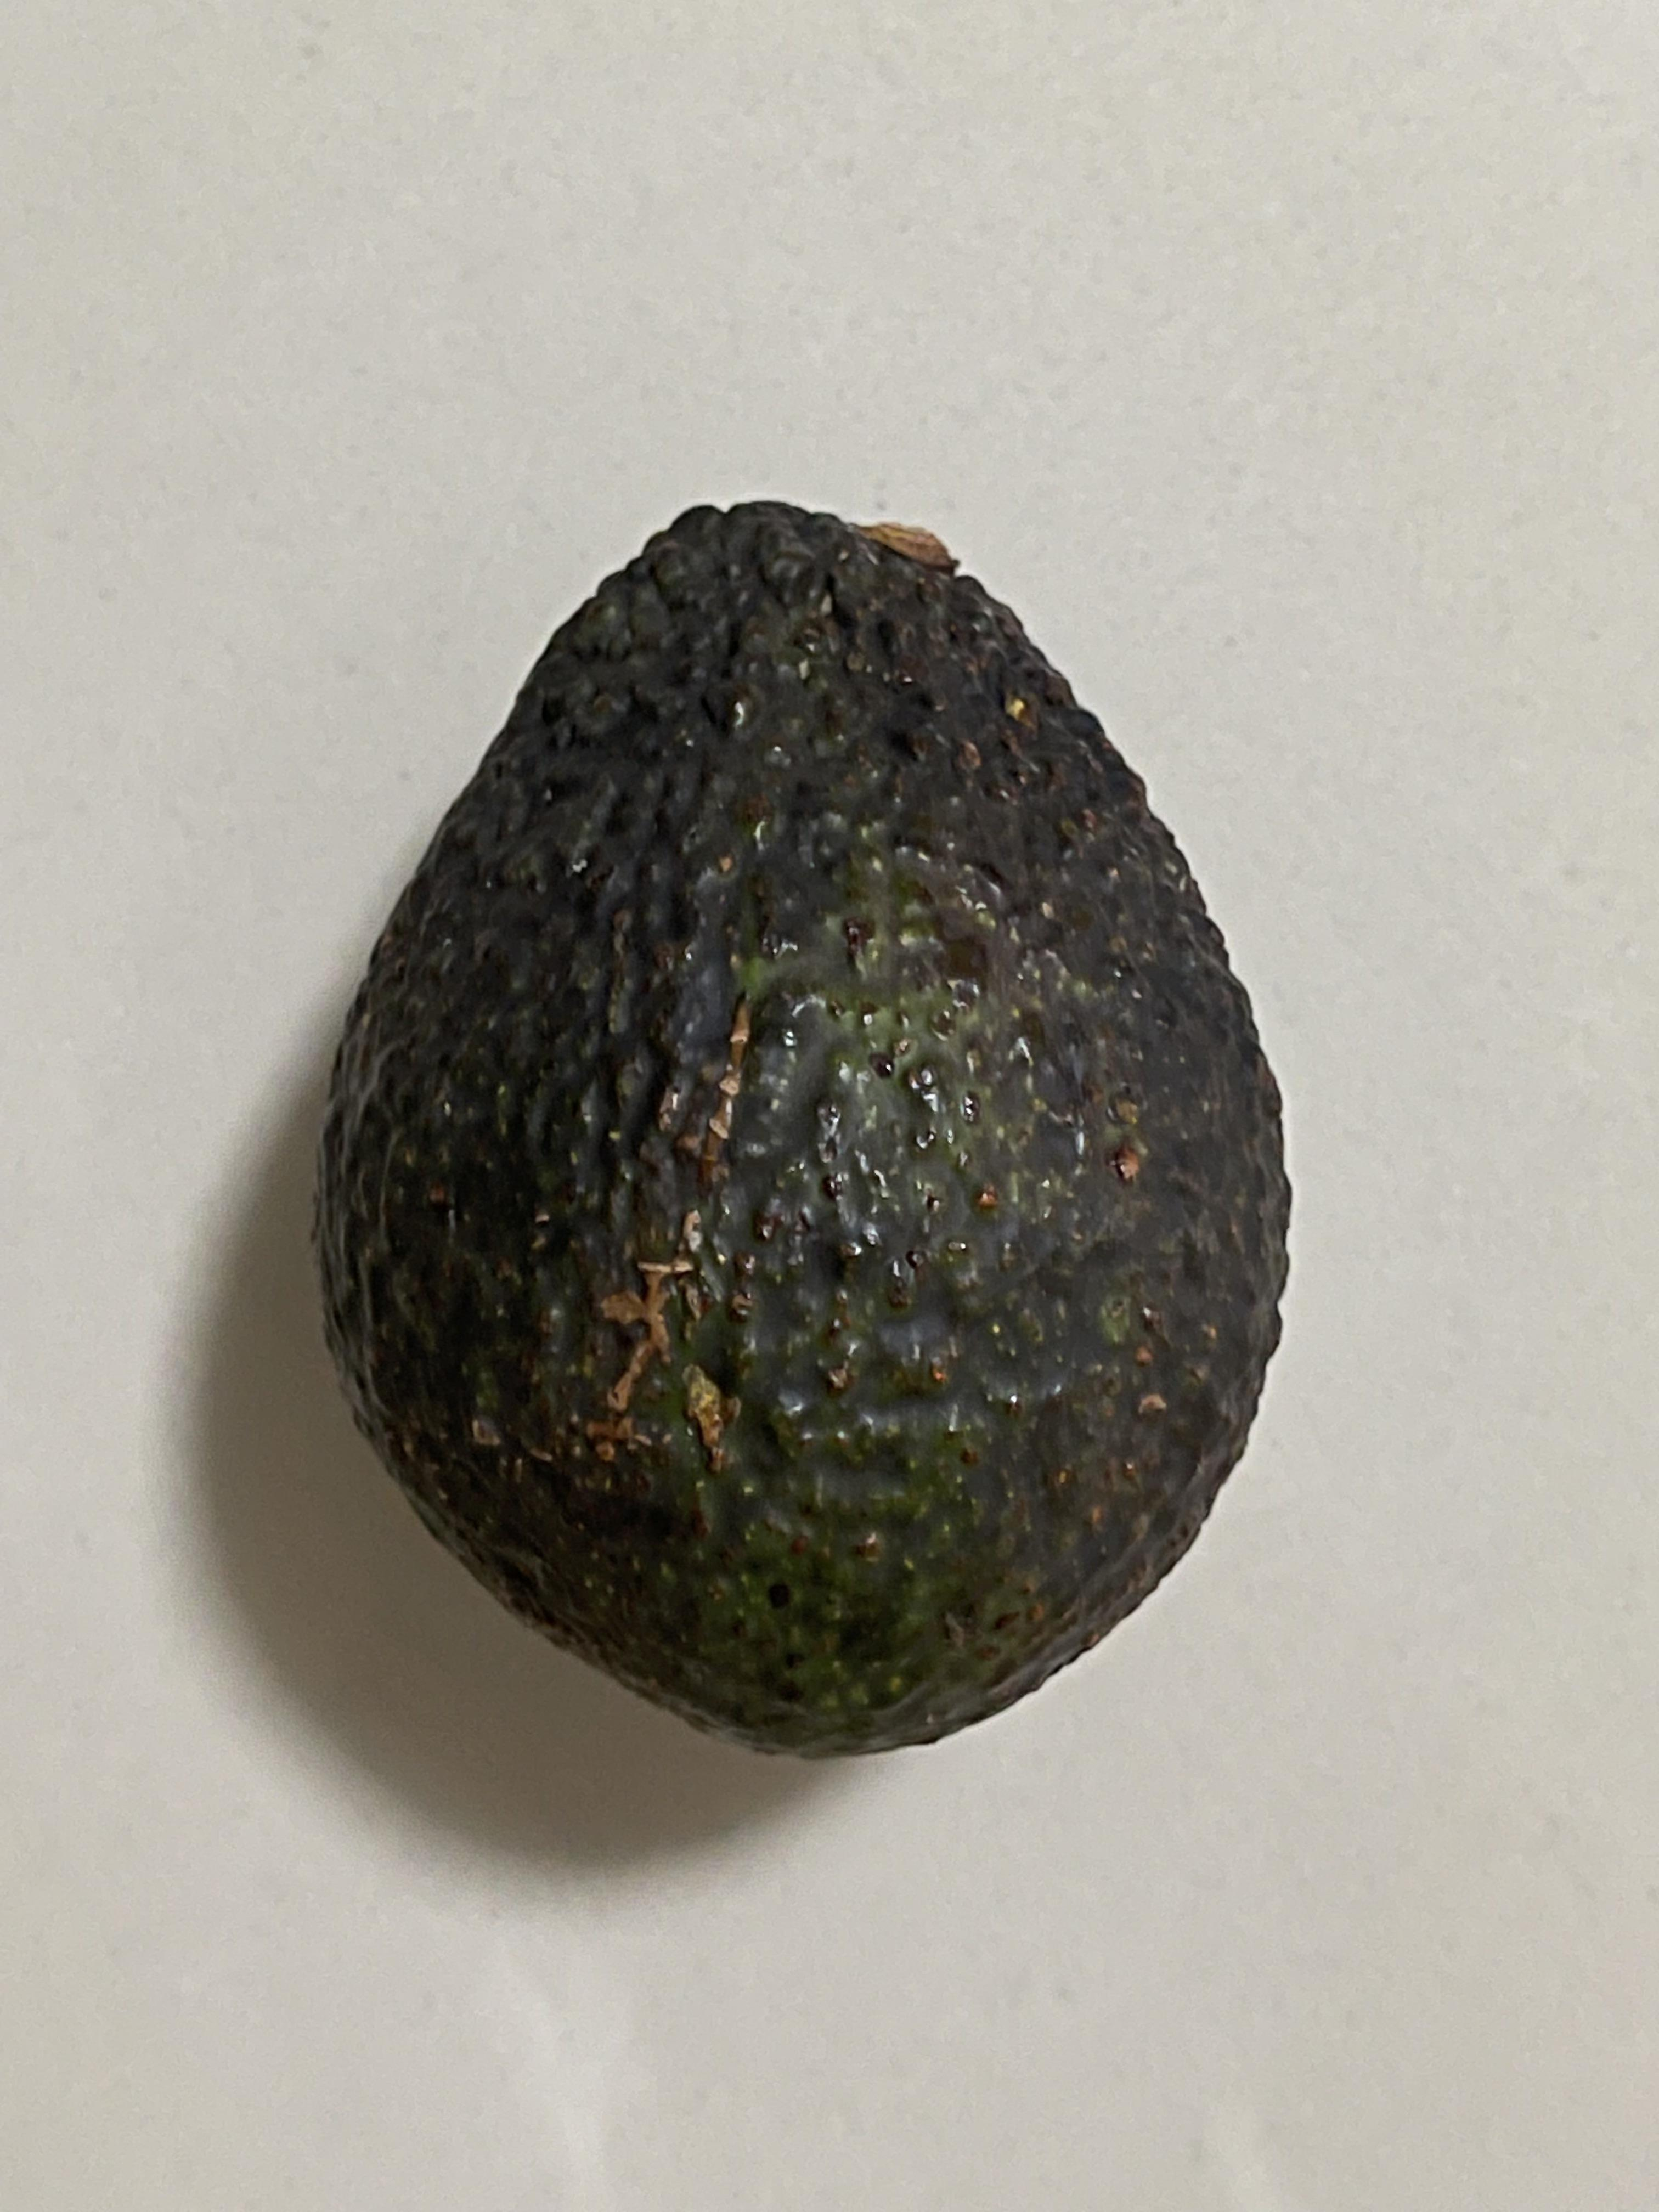Level1: (286, 462, 1326, 1792)
